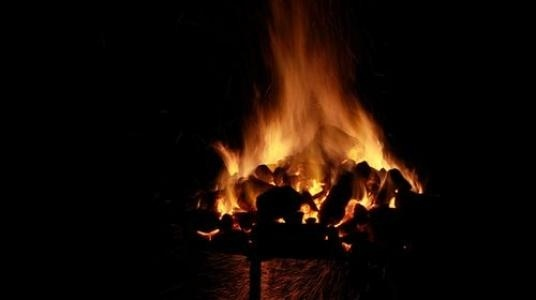fire: (209, 15, 426, 240)
